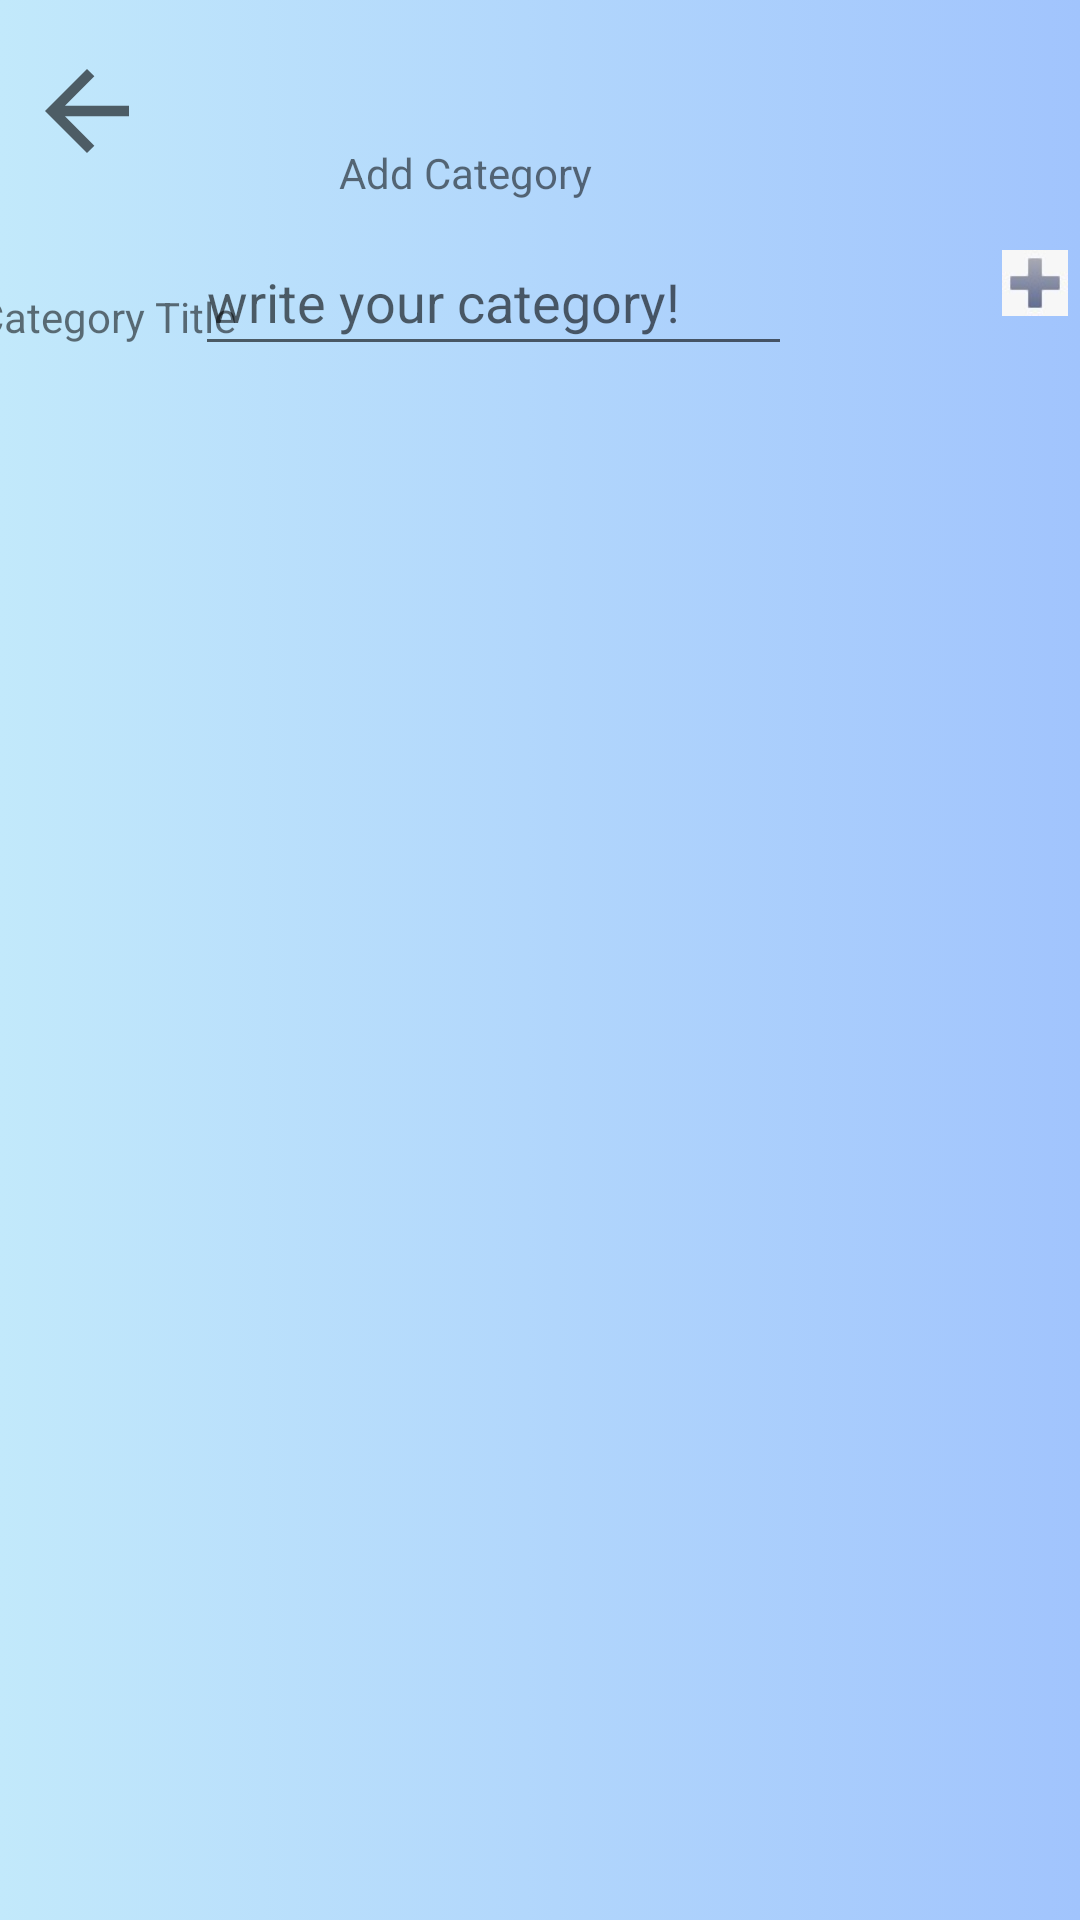

Named icons in this screenshot (1080×1920) and their bounding boxes, region(x1, y1, x2, y2):
plus: region(1002, 250, 1068, 316)
